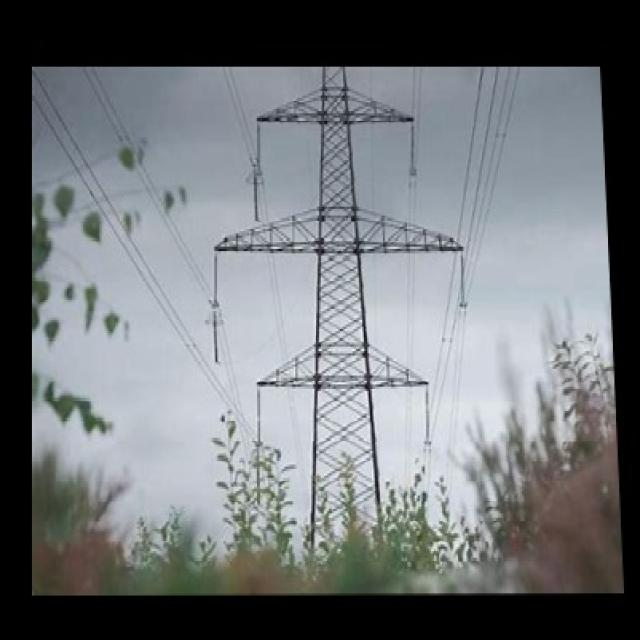utility poles: (208, 370, 508, 586)
